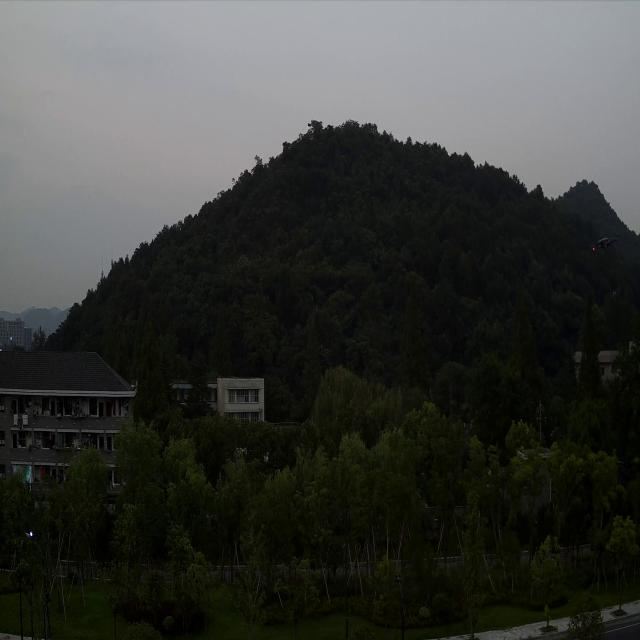UAV: (591, 234, 620, 255)
